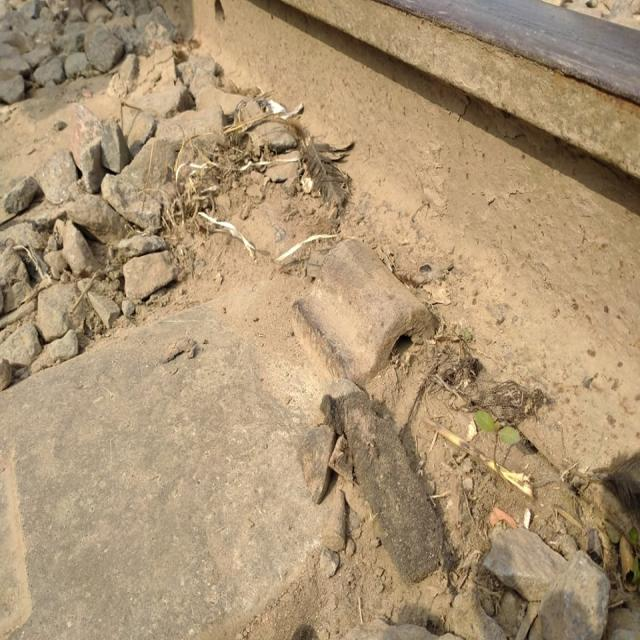fault: (288, 224, 442, 398)
